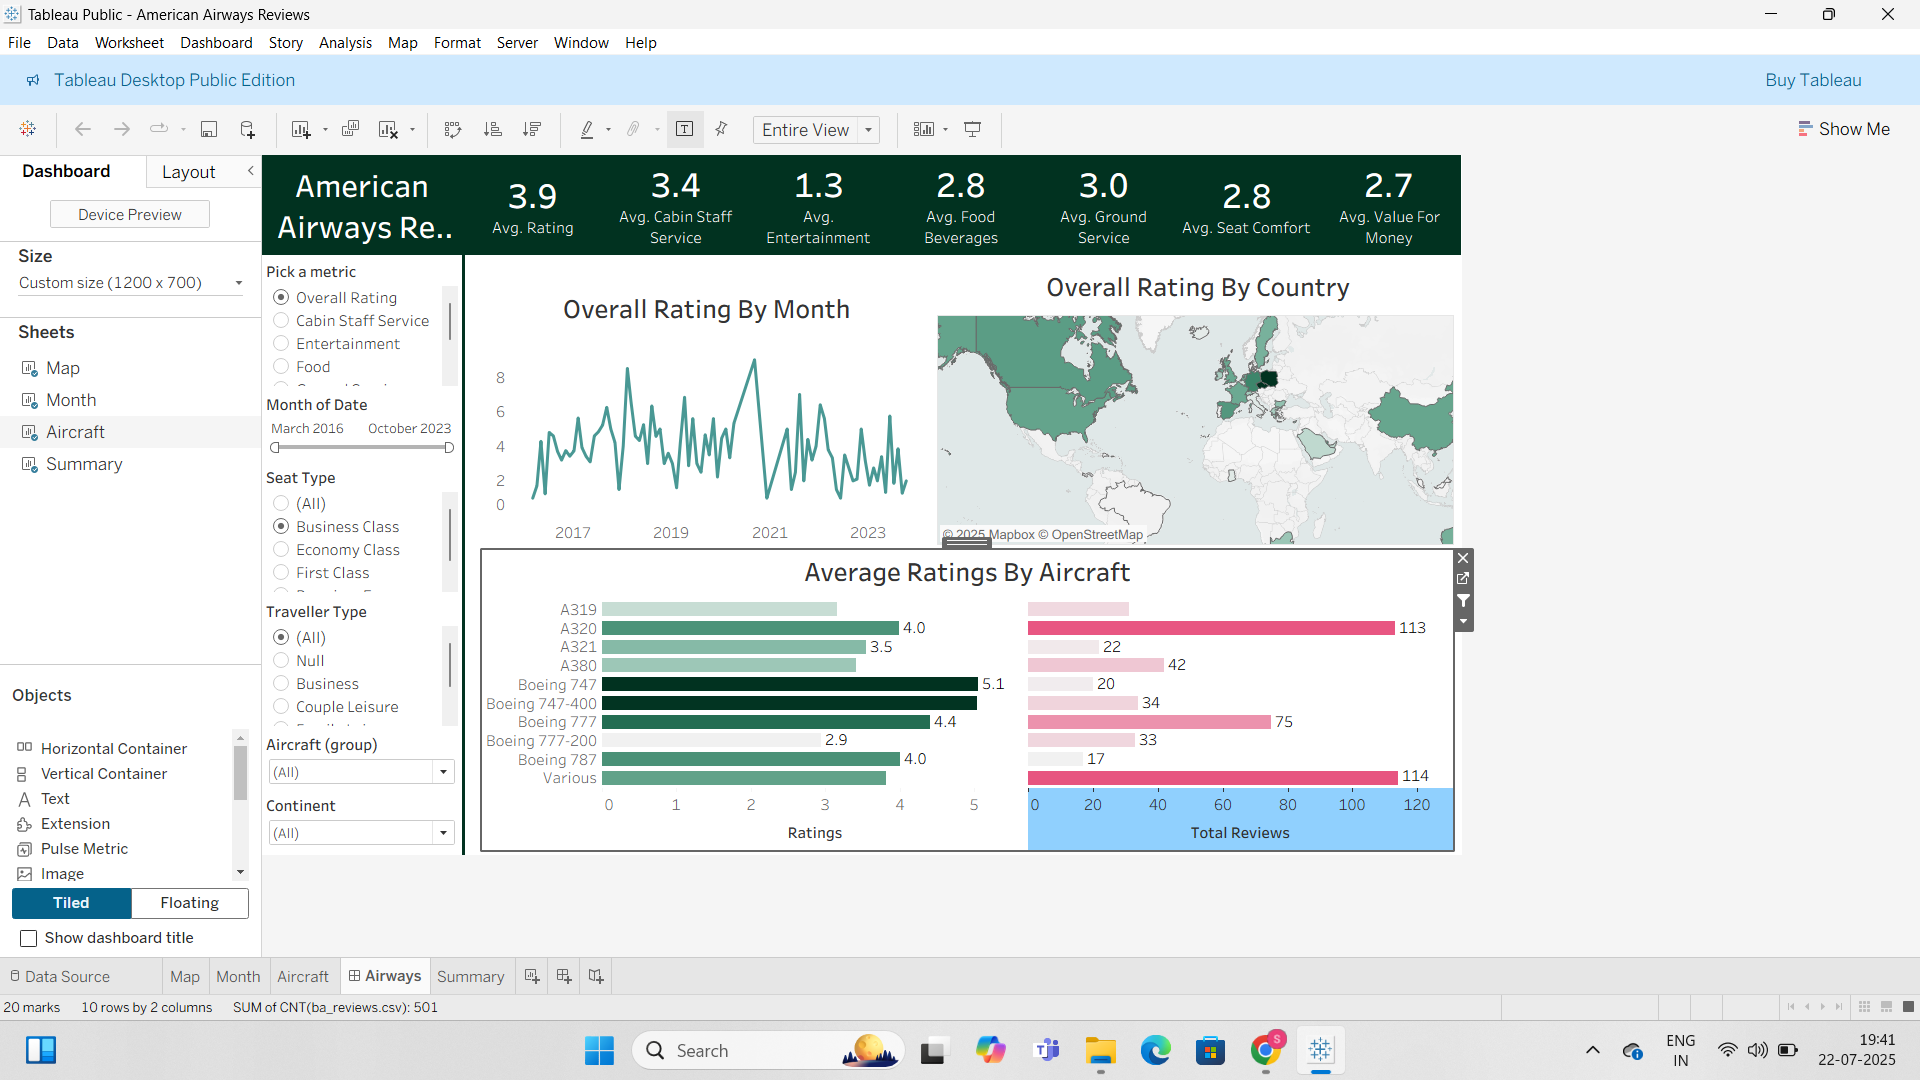

The page's visual inventory and layout, read from the dashboard file:
{"tool":"tableau","page":{"name":"Airways","canvas":[1200,700],"ordinal":0},"visuals":[{"type":"text","box":[0,0,200,100]},{"type":"worksheet","title":"Summary","mark":"Automatic","box":[200,0,999,100]},{"type":"blank","box":[200,100,3,600]},{"type":"parameter","param":"[Parameters].[Parameter 1]","box":[0,102,200,133.3]},{"type":"worksheet","title":"Month","mark":"Automatic","rows":["Calculation_467529988195790848"],"cols":["date"],"box":[220,110,444,280]},{"type":"worksheet","title":"Map","mark":"Automatic","box":[675,110,517,280]},{"type":"filter","title":"Map","param":"[federated.1pcnwoo1g4pvph10ksfk00hadk1e].[tmn:date:qk]","box":[0,235.3,200,73]},{"type":"filter","title":"Map","param":"[federated.1pcnwoo1g4pvph10ksfk00hadk1e].[none:seat_type:nk]","box":[0,308.3,200,133.3]},{"type":"worksheet","title":"Aircraft","mark":"Automatic","cols":["Calculation_467529988195790848","ba_reviews.csv_693B5AD7C0CC43C9AB5E245D8FB67E5F"],"box":[220,395,971,300]},{"type":"filter","title":"Map","param":"[federated.1pcnwoo1g4pvph10ksfk00hadk1e].[none:traveller_type:nk]","box":[0,441.7,200,133.3]},{"type":"filter","title":"Map","param":"[federated.1pcnwoo1g4pvph10ksfk00hadk1e].[Aircraft (group)]","box":[0,575,200,61]},{"type":"filter","title":"Map","param":"[federated.1pcnwoo1g4pvph10ksfk00hadk1e].[none:Continent:nk]","box":[0,636,200,61]}]}

Visuals, with their boxes on the page's 1200x700 design canvas (x1, y1, x2, y2). These are canvas units, not pixel positions in the 1920x1080 screenshot, which may show the page scaled, cropped or inside an application window:
text: 0/0/200/100
"Summary" worksheet: 200/0/1199/100
blank: 200/100/203/700
parameter: 0/102/200/235
"Month" worksheet: 220/110/664/390
"Map" worksheet: 675/110/1192/390
"Map" filter: 0/235/200/308
"Map" filter: 0/308/200/442
"Aircraft" worksheet: 220/395/1191/695
"Map" filter: 0/442/200/575
"Map" filter: 0/575/200/636
"Map" filter: 0/636/200/697
